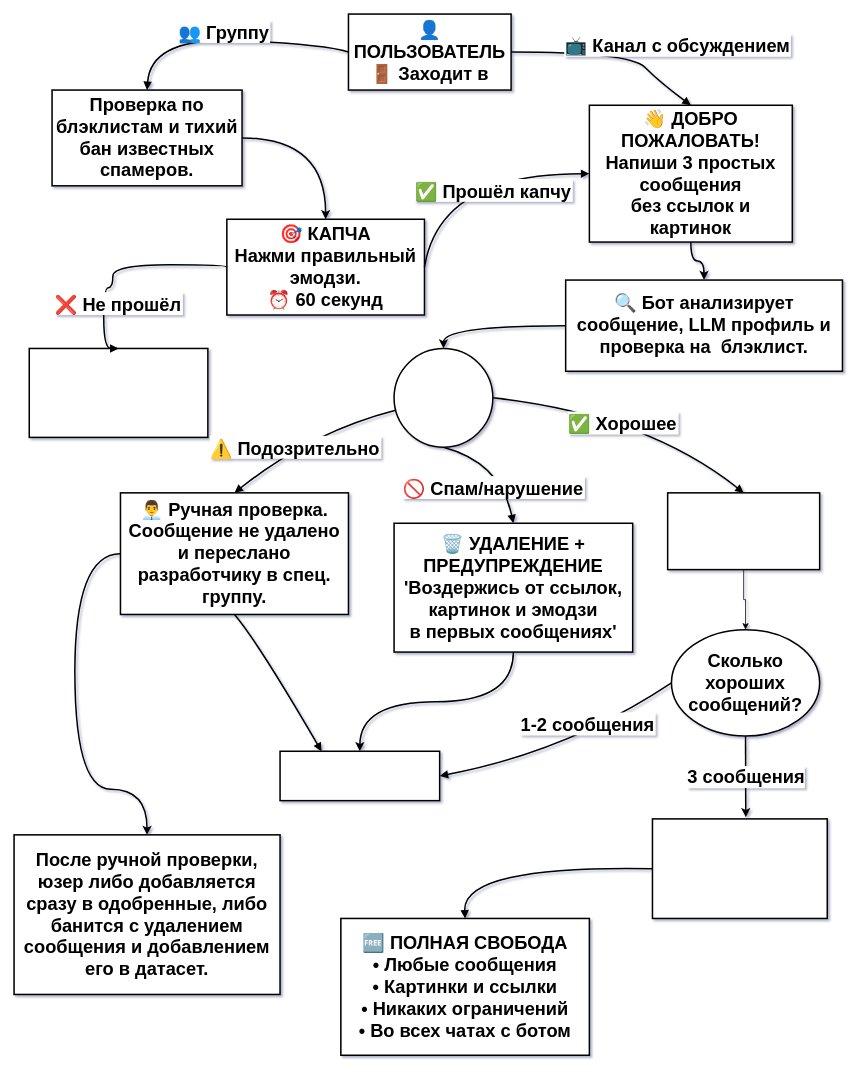
Some shapes in this 860 by 1073 pixel diagram are drawn without their labels. The shapes that lost their labels are listed below. From the top down, each one's box as (x1, y1, x2, y2) in pixels, then its label:
(28, 347, 208, 438): 🚫 БЛОКИРОВКА на 20 минут Попробуй позже
(393, 347, 493, 448): Результат
(667, 492, 820, 570): ✅ Засчитано! Сообщение прошло
(279, 750, 440, 801): 📝 Напиши еще
(651, 818, 828, 919): 🎉 ОДОБРЕН! Теперь можешь писать всё что угодно
